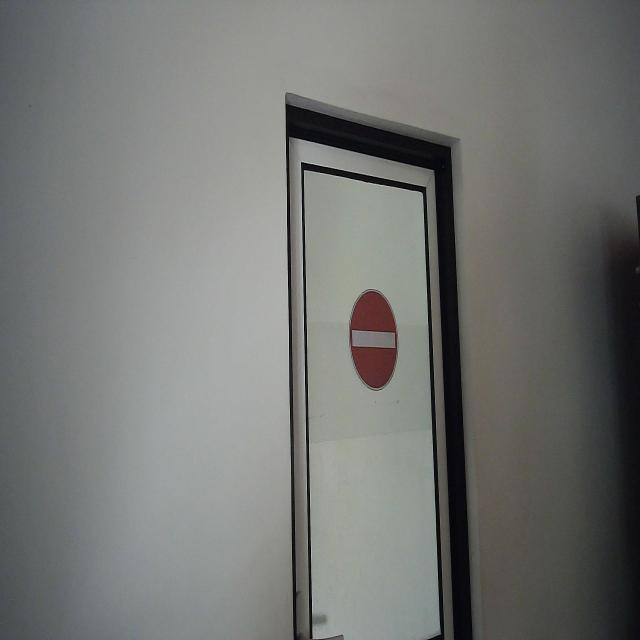no_entry: (348, 286, 401, 394)
